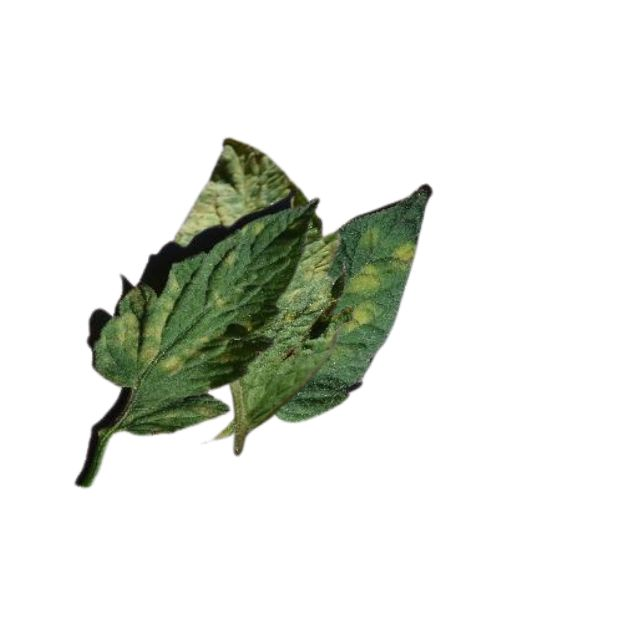Leaf_Mold: (111, 270, 208, 385), (171, 136, 285, 232), (273, 230, 334, 343), (341, 254, 377, 334), (388, 239, 418, 267)
